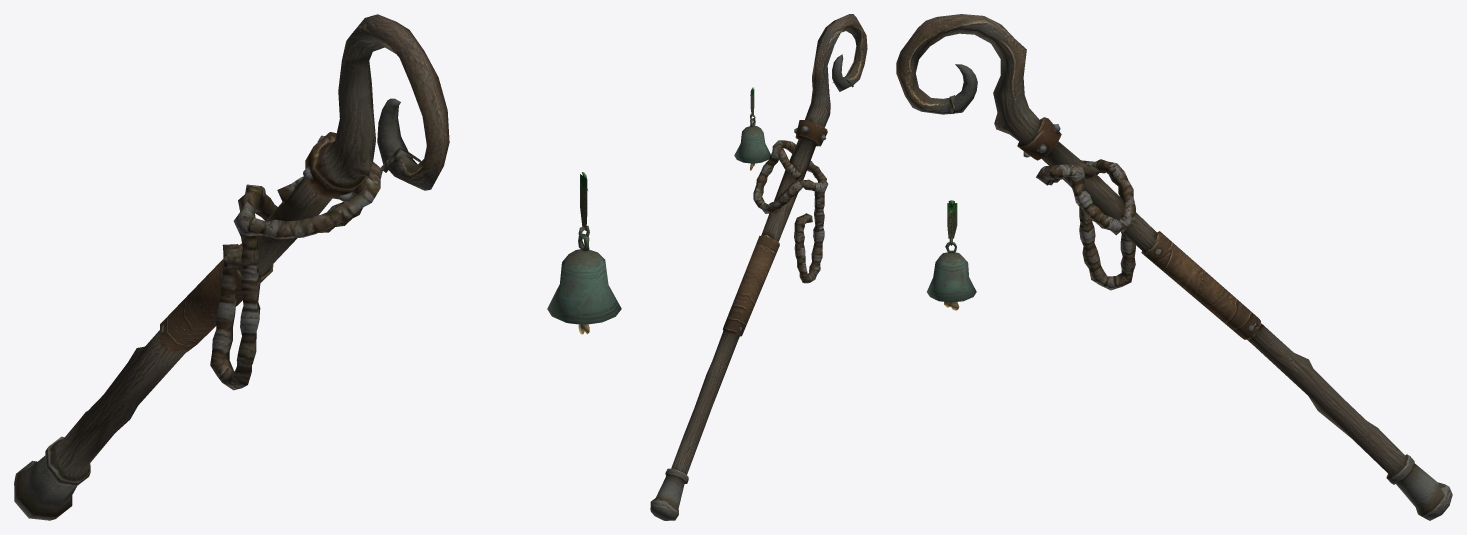
Rendered from gear_monk_bell_staff.glb.
The picture shows the model from 3 angles, left to right: view 1: azimuth 30°, elevation 25°; view 2: azimuth 150°, elevation 25°; view 3: azimuth 270°, elevation 25°; orthographic projection. The views are drawn at different scales.
Visible parts, largest first — view 1: tripo_node_fe6b9a11-731b-4f2f-b129-ad8915c087ef; view 2: tripo_node_fe6b9a11-731b-4f2f-b129-ad8915c087ef; view 3: tripo_node_fe6b9a11-731b-4f2f-b129-ad8915c087ef.
Boxes of the visible parts, <box> form: tripo_node_fe6b9a11-731b-4f2f-b129-ad8915c087ef: <box>14,14,621,520</box>; tripo_node_fe6b9a11-731b-4f2f-b129-ad8915c087ef: <box>650,14,867,520</box>; tripo_node_fe6b9a11-731b-4f2f-b129-ad8915c087ef: <box>896,14,1452,520</box>.
Bounding box in the file's own units: 0.3848 × 0.998 × 0.998.
Materials: 1 (1 with a texture image).
